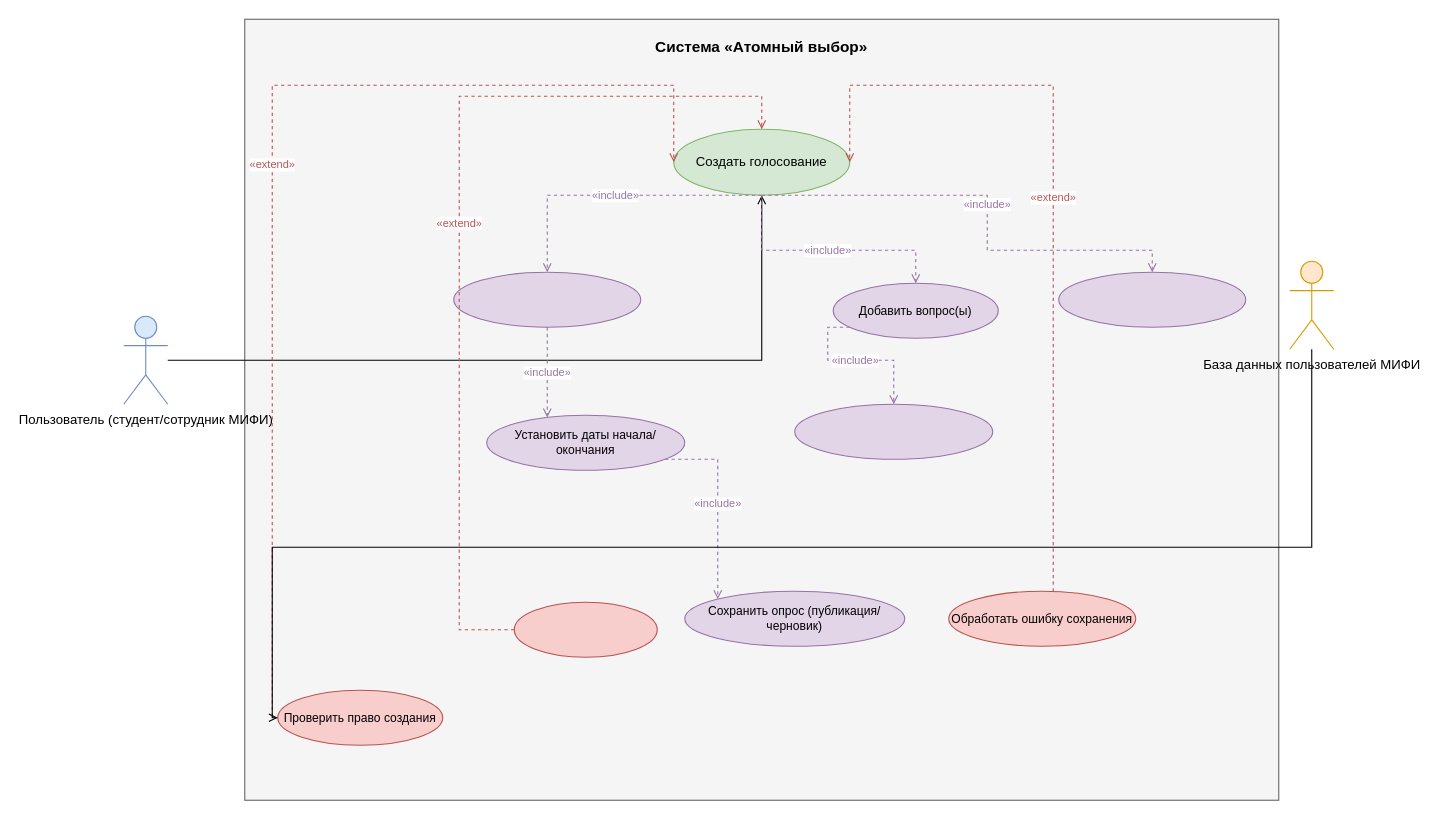
This 1439x820 diagram has some shape labels left out. The shapes that lost their labels are listed below. From the top down, each one's centre as x and y in pixels, then its label:
At (547,299): "Заполнить название и описание".
At (1152,299): "Добавить варианты ответов".
At (893,431): "Настроить доступ (все / группы)".
At (585,629): "Валидировать данные".
